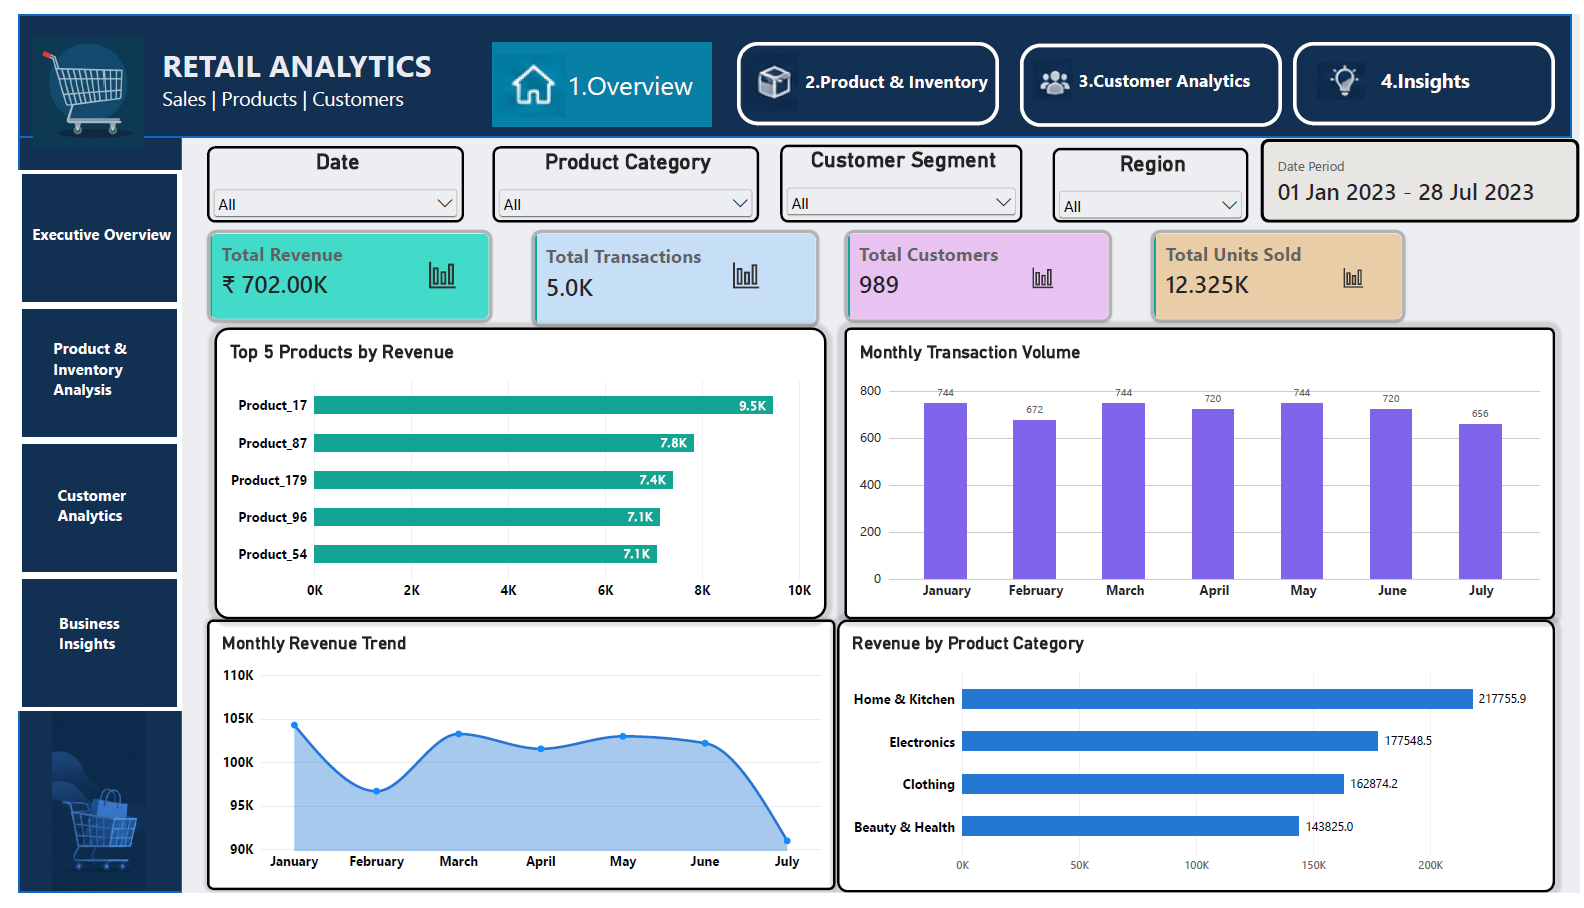

The dashboard page shown, as its layout file describes it:
{"tool":"powerbi","page":{"name":"Executive Overview","canvas":[1920,1080],"ordinal":0},"visuals":[{"type":"shape","box":[0,0,1910.4,150.9],"z":0},{"type":"shape","box":[0,150.9,200.6,929.5],"z":1000},{"type":"image","box":[14,28,144.1,135.8],"z":2000},{"type":"textbox","box":[177,37,372.6,142],"z":3000},{"type":"shape","box":[582.5,35,269.6,102.9],"z":4000},{"type":"image","box":[582.5,49.4,92.6,76.2],"z":5000},{"type":"textbox","box":[675.1,63.8,177,43.2],"z":6000},{"type":"shape","box":[884,34,322,102],"z":7000},{"type":"shape","box":[1568,34,322,102],"z":8000},{"type":"shape","box":[1232,36,322,102],"z":9000},{"type":"image","box":[884,48,82.3,70],"z":10000},{"type":"image","box":[1248,38,48,84],"z":11000},{"type":"image","box":[1598,42,58,80],"z":12000},{"type":"textbox","box":[968,68,263.5,41.2],"z":13000},{"type":"textbox","box":[1304,66,232.6,45.3],"z":14000},{"type":"textbox","box":[1676,64,188,54],"z":15000},{"type":"slicer","title":"Date","fields":{"Values":["clean_sales.TransactionDate"]},"box":[231.9,162,316.6,93.9],"z":16000},{"type":"slicer","title":"Product Category","fields":{"Values":["clean_products.Category"]},"box":[583.4,162,327.6,93.9],"z":17000},{"type":"slicer","title":"Customer Segment","fields":{"Values":["rfm_customers.Segment"]},"box":[936.8,160.1,298.2,95.7],"z":18000},{"type":"slicer","title":"Region","fields":{"Values":["clean_customers.Location"]},"box":[1271.8,163.8,241.1,92],"z":19000},{"type":"cardVisual","fields":{"Data":["clean_sales.Total Revenue"]},"box":[231.9,265,351.5,114.1],"z":20000},{"type":"cardVisual","fields":{"Data":["clean_sales.Total Transactions"]},"box":[631.3,265,353.4,119.6],"z":21000},{"type":"cardVisual","fields":{"Data":["clean_sales.Total Customers"]},"box":[1016,265,329.4,114.1],"z":22000},{"type":"cardVisual","fields":{"Data":["clean_sales.Total Units Sold"]},"box":[1393.3,265,312.9,114.1],"z":23000},{"type":"clusteredColumnChart","fields":{"Category":["DateTable.Date.Variation.Date Hierarchy.Month"],"Y":["clean_sales.Total Revenue"]},"box":[480.4,274.2,82.3,95.1],"z":28000},{"type":"clusteredColumnChart","fields":{"Category":["DateTable.Date.Variation.Date Hierarchy.Month"],"Y":["clean_sales.Total Revenue"]},"box":[854,274.2,82.3,95.1],"z":29000},{"type":"clusteredColumnChart","fields":{"Category":["DateTable.Date.Variation.Date Hierarchy.Month"],"Y":["clean_sales.Total Revenue"]},"box":[1223.9,277.9,71.7,94.3],"z":30000},{"type":"clusteredColumnChart","fields":{"Category":["DateTable.Date.Variation.Date Hierarchy.Month"],"Y":["clean_sales.Total Revenue"]},"box":[1606.8,277.9,69.8,94.3],"z":31000},{"type":"lineChart","title":"Monthly Revenue Trend","fields":{"Category":["DateTable.Date.Variation.Date Hierarchy.Month"],"Y":["Sum(clean_sales.Revenue)"]},"box":[231.9,743.6,773,333.1],"z":32000},{"type":"clusteredBarChart","title":"Revenue by Product Category","fields":{"Category":["clean_products.Category"],"Y":["Sum(clean_sales.Revenue)"]},"box":[1006.8,743.6,883.4,336.8],"z":33000},{"type":"clusteredBarChart","title":"Top 5 Products by Revenue","fields":{"Category":["clean_products.ProductName"],"Y":["Sum(clean_sales.Revenue)"]},"box":[241.1,384.7,752.8,358.9],"z":34000},{"type":"clusteredColumnChart","title":"Monthly Transaction Volume","fields":{"Category":["DateTable.Date.Variation.Date Hierarchy.Month"],"Y":["clean_sales.Total Transactions"]},"box":[1016,384.7,874.2,358.9],"z":35000},{"type":"cardVisual","fields":{"Data":["clean_sales.Date Period"]},"box":[1527.6,152.8,392,103.1],"z":36000},{"type":"shape","box":[0,358,200,166],"z":37000},{"type":"textbox","box":[43.4,398.1,156.6,88.7],"z":38000},{"type":"image","box":[0,856.6,198,220],"z":39000},{"type":"shape","box":[0,524,200,166],"z":40000},{"type":"shape","box":[0,690,200,166],"z":41000},{"type":"shape","box":[0,192,200,166],"z":42000},{"type":"textbox","box":[17,256.6,190,90],"z":43000},{"type":"textbox","box":[48,578,102,82],"z":44000},{"type":"textbox","box":[50,736,102,88],"z":45000}]}

Visuals, with their boxes in screenshot pixels (x1, y1, x2, y2), scaled from the page's 1920x1080 canvas onto the 1584x908 screenshot:
shape: x1=0, y1=0, x2=1576, y2=127
shape: x1=0, y1=127, x2=165, y2=907
image: x1=12, y1=24, x2=130, y2=138
textbox: x1=146, y1=31, x2=453, y2=150
shape: x1=481, y1=29, x2=703, y2=116
image: x1=481, y1=42, x2=557, y2=106
textbox: x1=557, y1=54, x2=703, y2=90
shape: x1=729, y1=29, x2=995, y2=114
shape: x1=1294, y1=29, x2=1559, y2=114
shape: x1=1016, y1=30, x2=1282, y2=116
image: x1=729, y1=40, x2=797, y2=99
image: x1=1030, y1=32, x2=1069, y2=103
image: x1=1318, y1=35, x2=1366, y2=103
textbox: x1=799, y1=57, x2=1016, y2=92
textbox: x1=1076, y1=55, x2=1268, y2=94
textbox: x1=1383, y1=54, x2=1538, y2=99
"Date" slicer: x1=191, y1=136, x2=453, y2=215
"Product Category" slicer: x1=481, y1=136, x2=752, y2=215
"Customer Segment" slicer: x1=773, y1=135, x2=1019, y2=215
"Region" slicer: x1=1049, y1=138, x2=1248, y2=215
cardVisual - clean_sales.Total Revenue: x1=191, y1=223, x2=481, y2=319
cardVisual - clean_sales.Total Transactions: x1=521, y1=223, x2=812, y2=323
cardVisual - clean_sales.Total Customers: x1=838, y1=223, x2=1110, y2=319
cardVisual - clean_sales.Total Units Sold: x1=1149, y1=223, x2=1408, y2=319
clusteredColumnChart - DateTable.Date.Variation.Date Hierarchy.Month x clean_sales.Total Revenue: x1=396, y1=231, x2=464, y2=310
clusteredColumnChart - DateTable.Date.Variation.Date Hierarchy.Month x clean_sales.Total Revenue: x1=705, y1=231, x2=772, y2=310
clusteredColumnChart - DateTable.Date.Variation.Date Hierarchy.Month x clean_sales.Total Revenue: x1=1010, y1=234, x2=1069, y2=313
clusteredColumnChart - DateTable.Date.Variation.Date Hierarchy.Month x clean_sales.Total Revenue: x1=1326, y1=234, x2=1383, y2=313
"Monthly Revenue Trend" lineChart: x1=191, y1=625, x2=829, y2=905
"Revenue by Product Category" clusteredBarChart: x1=831, y1=625, x2=1559, y2=907
"Top 5 Products by Revenue" clusteredBarChart: x1=199, y1=323, x2=820, y2=625
"Monthly Transaction Volume" clusteredColumnChart: x1=838, y1=323, x2=1559, y2=625
cardVisual - clean_sales.Date Period: x1=1260, y1=128, x2=1583, y2=215
shape: x1=0, y1=301, x2=165, y2=441
textbox: x1=36, y1=335, x2=165, y2=409
image: x1=0, y1=720, x2=163, y2=905
shape: x1=0, y1=441, x2=165, y2=580
shape: x1=0, y1=580, x2=165, y2=720
shape: x1=0, y1=161, x2=165, y2=301
textbox: x1=14, y1=216, x2=171, y2=291
textbox: x1=40, y1=486, x2=124, y2=555
textbox: x1=41, y1=619, x2=125, y2=693
